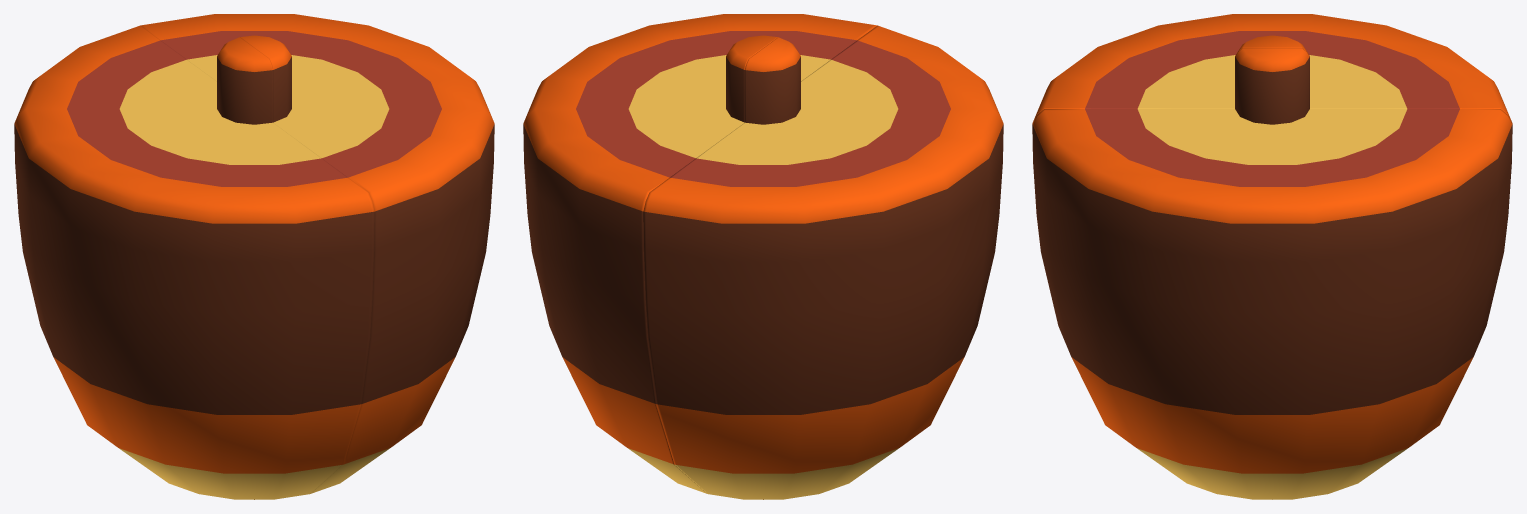
The model's file is SM_Top_01a.fbx.
3 views of the same model, side by side, from view 1: azimuth 30°, elevation 25°; view 2: azimuth 150°, elevation 25°; view 3: azimuth 270°, elevation 25° (orthographic).
Visible parts, largest first — view 1: Top_02, Top_01; view 2: Top_02, Top_01; view 3: Top_01, Top_02.
Part boxes in pixels (<box>): Top_02: <box>14,25,374,499</box>; Top_01: <box>140,14,494,493</box>; Top_02: <box>643,25,1003,499</box>; Top_01: <box>523,14,877,493</box>; Top_01: <box>1032,48,1512,499</box>; Top_02: <box>1033,14,1511,121</box>.
Size of the model in its own units: 29.45 by 31.04 by 29.9.
